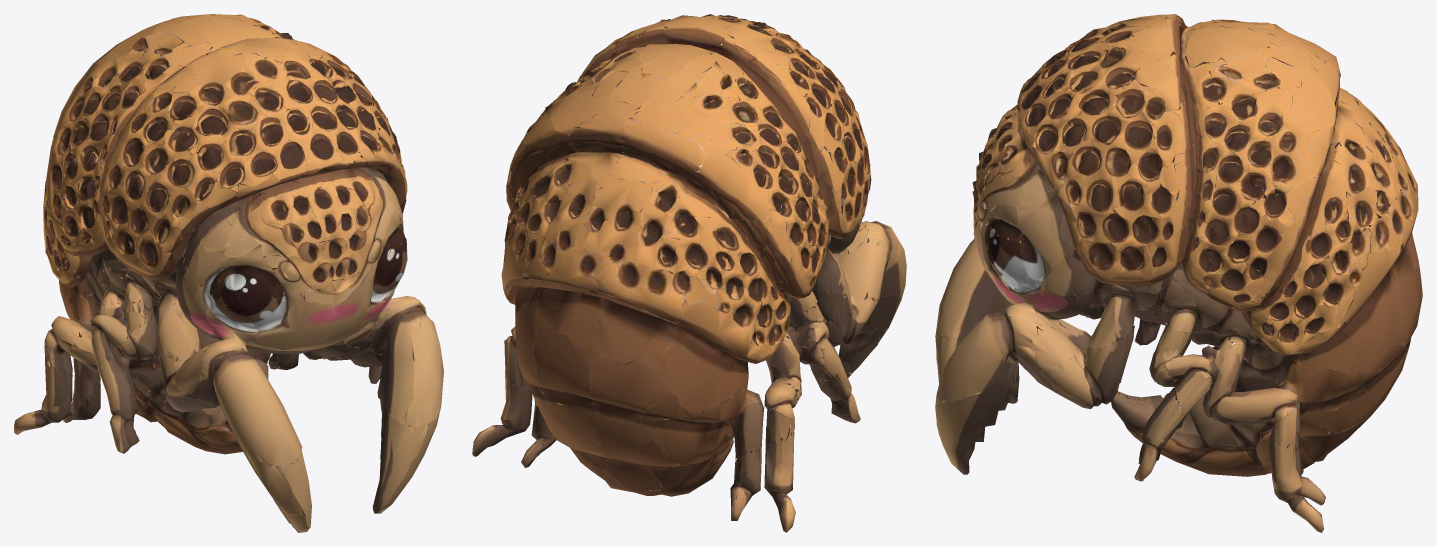
3 renders of one model, left to right at view 1: azimuth 30°, elevation 25°; view 2: azimuth 150°, elevation 25°; view 3: azimuth 270°, elevation 25°, orthographic. The views are drawn at different scales.
Parts seen in each view (by area): view 1: Mesh_0; view 2: Mesh_0; view 3: Mesh_0.
Boxes of the visible parts, x1,y1,x2,y2 form: Mesh_0: [14, 14, 443, 532]; Mesh_0: [472, 14, 906, 532]; Mesh_0: [935, 14, 1422, 532].
Bounding box in the file's own units: 1.48 × 1.9 × 1.9.
1 material, 1 textured.
